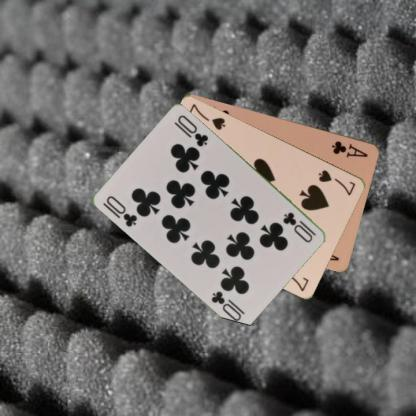10c: (280, 209, 318, 244), (104, 192, 139, 228)
7s: (316, 167, 357, 196)
Ac: (329, 138, 370, 159)
